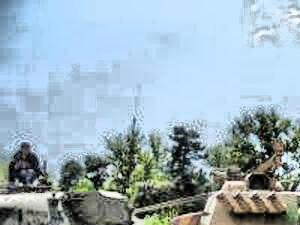tanks: (176, 156, 300, 225), (2, 193, 133, 225), (136, 196, 207, 215), (140, 221, 145, 225)
